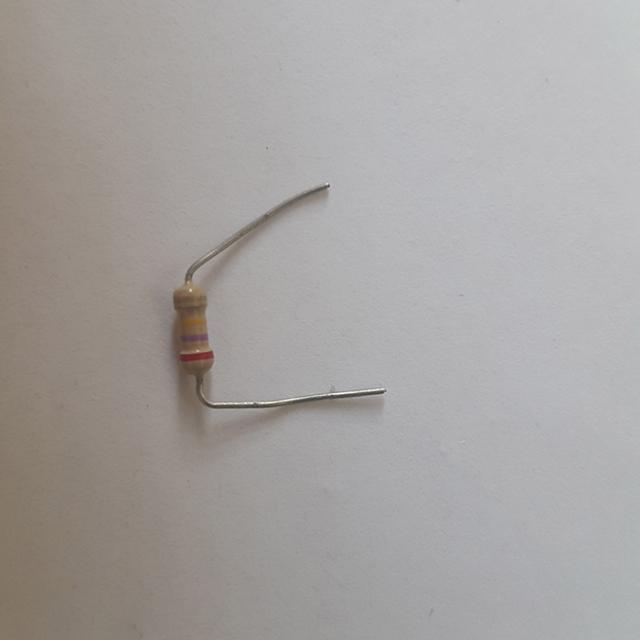gold: (174, 294, 205, 304)
red: (178, 352, 212, 361)
resistor: (159, 280, 227, 392)
violet: (180, 333, 208, 340)
yellow: (180, 317, 206, 325)
